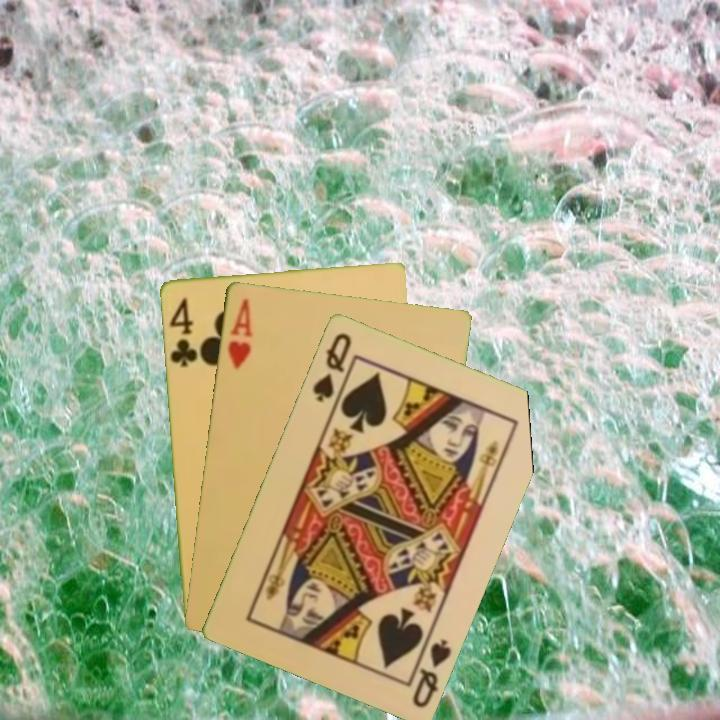4c: (166, 294, 200, 370)
Ah: (224, 294, 255, 372)
Qs: (308, 328, 354, 405), (409, 635, 454, 710)
